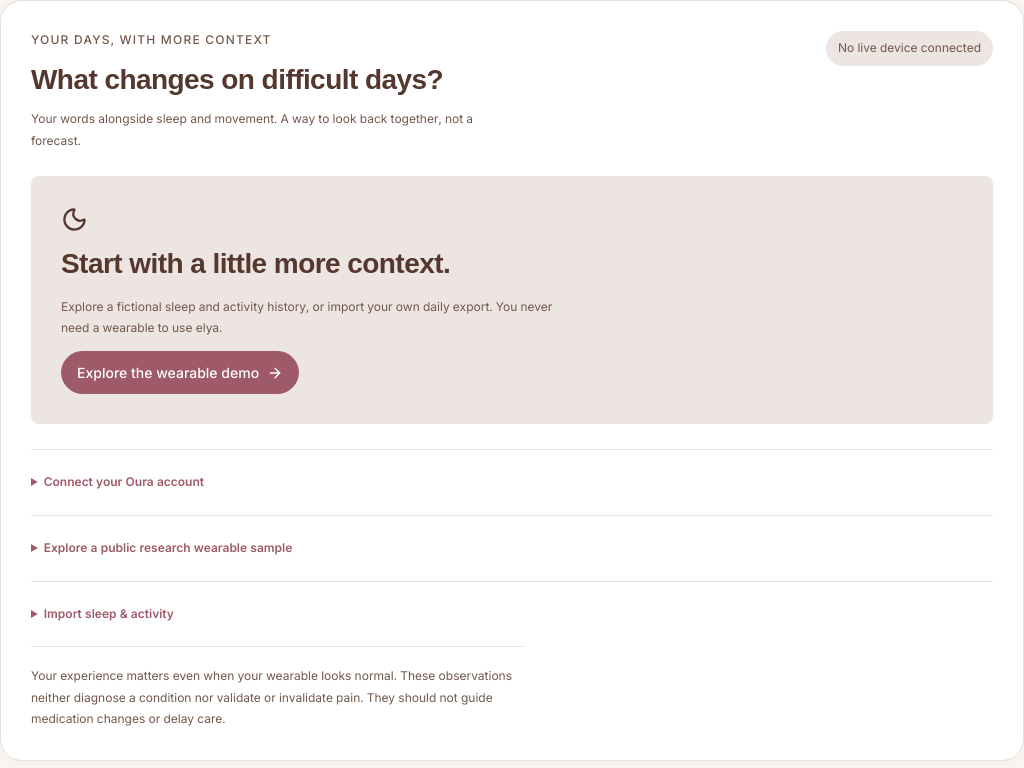
it: imports local records and leaves prior records intact on invalid input
Later steps or results of the test are not shown.
Click the heading "Import sleep & activity" at (109, 613), box [44,606,174,621]
(page scrolled)
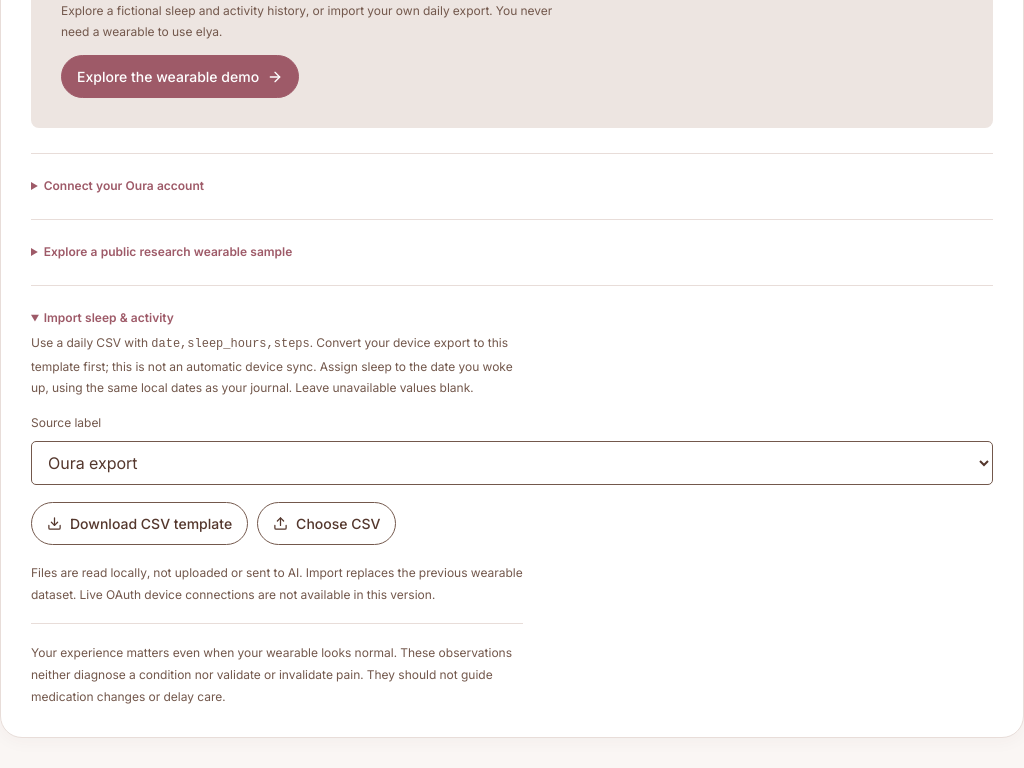
Expected: the button "Choose CSV" is enabled, [257,502,396,545]
